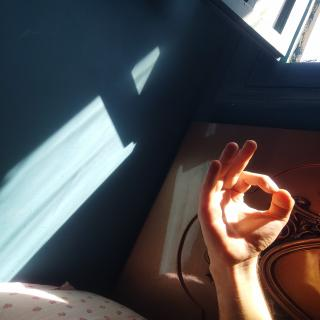Space: (194, 128, 301, 272)
